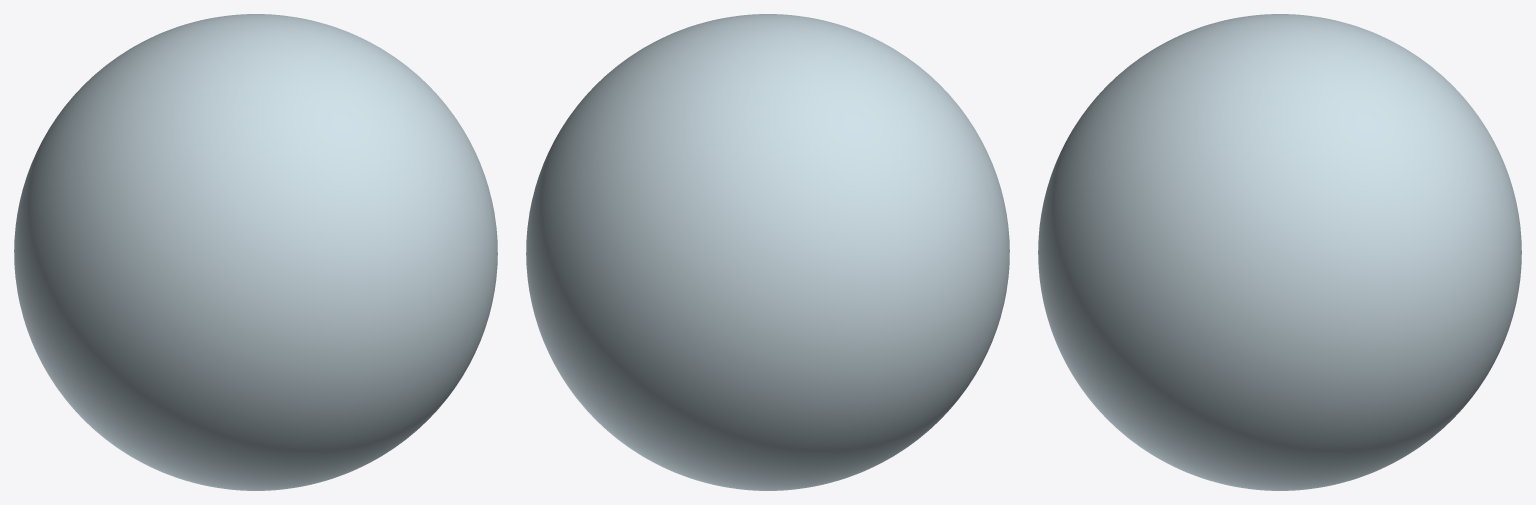
The model's file is neptune.glb.
3 views of the same model, side by side, from view 1: azimuth 30°, elevation 25°; view 2: azimuth 150°, elevation 25°; view 3: azimuth 270°, elevation 25° (orthographic).
Visible parts, largest first — view 1: Neptune_AtmosphericLimb; view 2: Neptune_AtmosphericLimb; view 3: Neptune_AtmosphericLimb.
Part boxes in pixels (bbox=[...]): Neptune_AtmosphericLimb: bbox=[14, 14, 497, 490]; Neptune_AtmosphericLimb: bbox=[526, 14, 1009, 490]; Neptune_AtmosphericLimb: bbox=[1038, 14, 1521, 490].
Size of the model in its own units: 1.01 by 0.9898 by 1.01.
